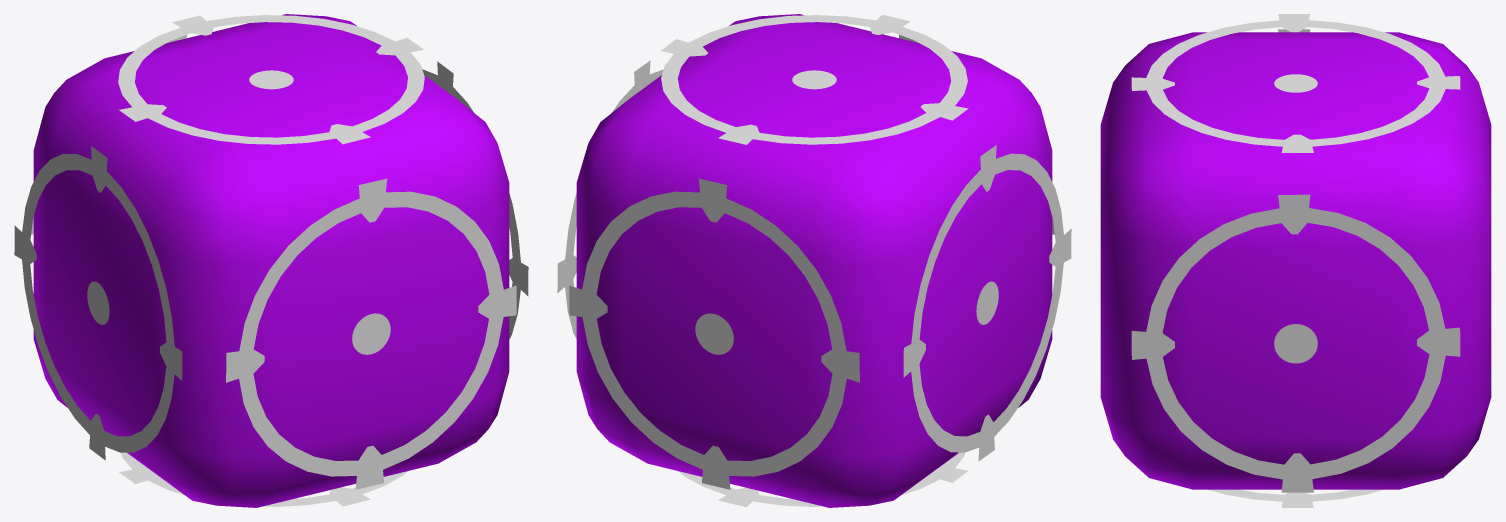
The model's file is Target_Purple.fbx.
3 renders of one model, left to right at view 1: azimuth 30°, elevation 25°; view 2: azimuth 150°, elevation 25°; view 3: azimuth 270°, elevation 25°, orthographic. The views are drawn at different scales.
Parts seen in each view (by area): view 1: Cube.Blue.001; view 2: Cube.Blue.001; view 3: Cube.Blue.001.
Part boxes in pixels (x1,y1,x2,y2): Cube.Blue.001: (14, 14, 528, 507); Cube.Blue.001: (557, 14, 1071, 507); Cube.Blue.001: (1100, 14, 1491, 507).
Bounding box in the file's own units: 66.14 × 66.14 × 66.14.
